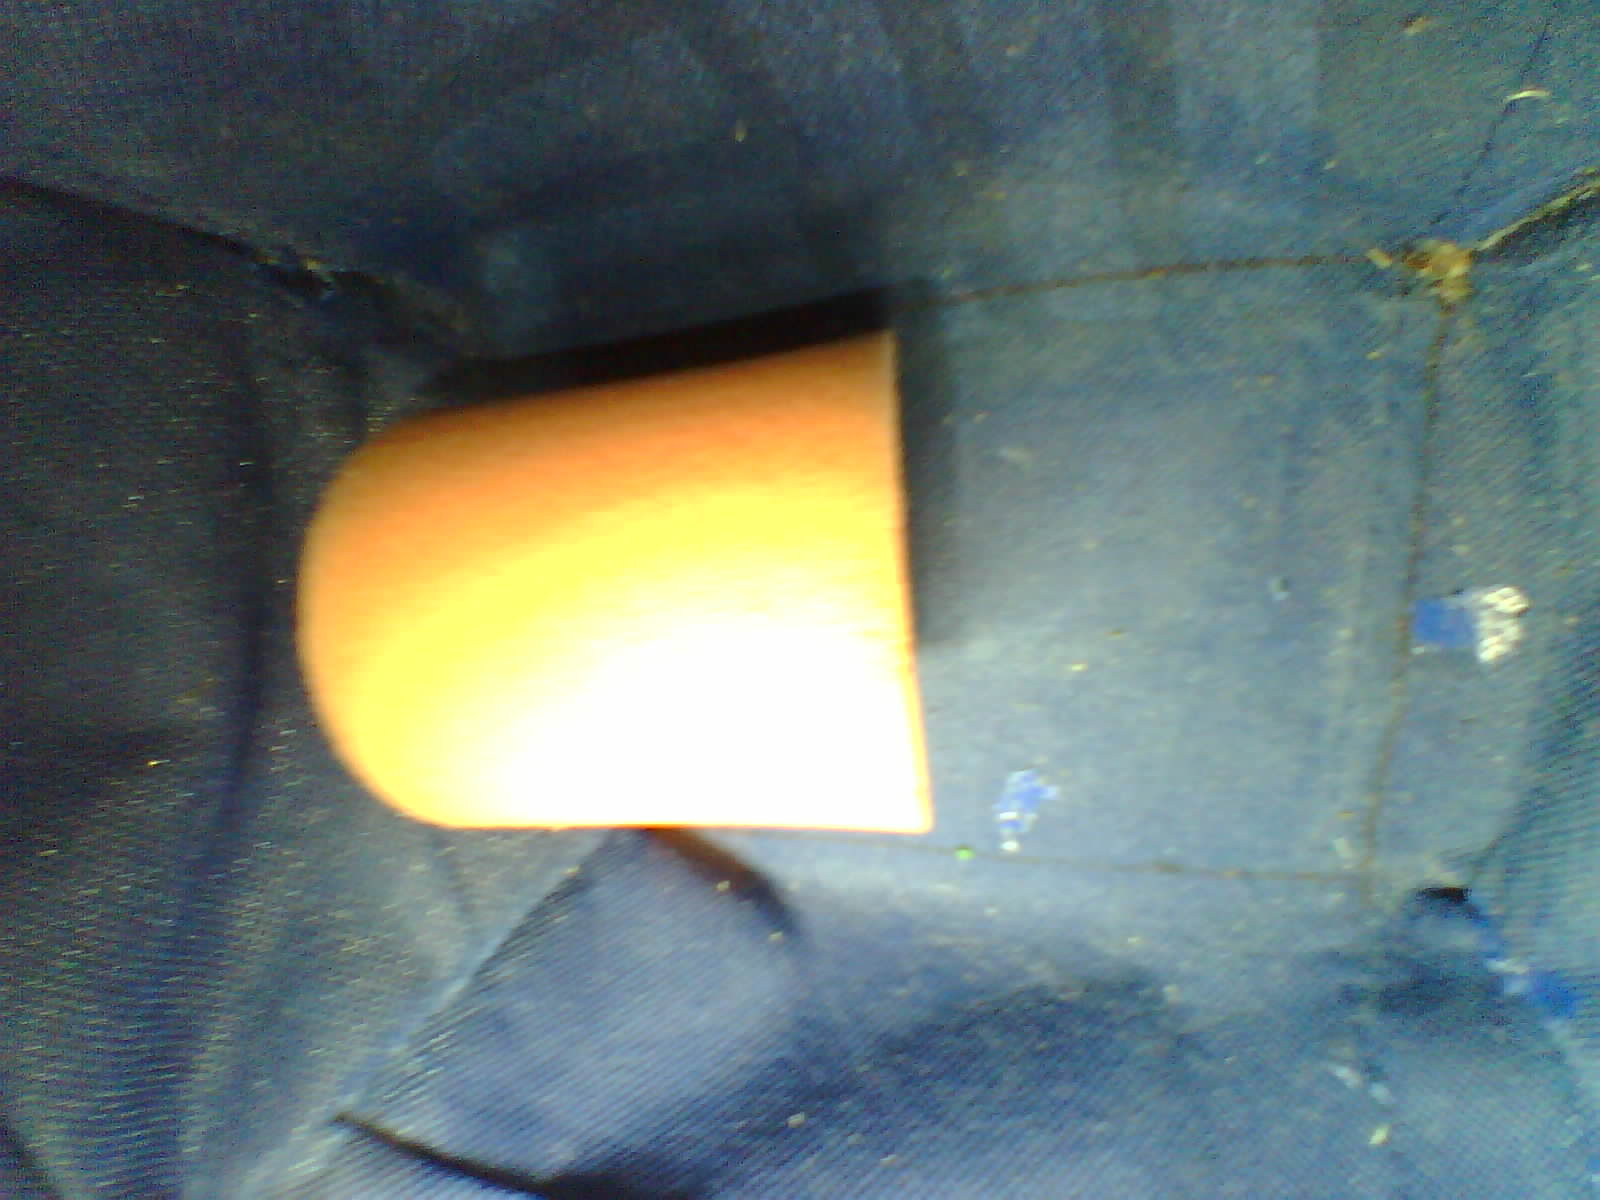cylinder-soft: (260, 314, 970, 874)
